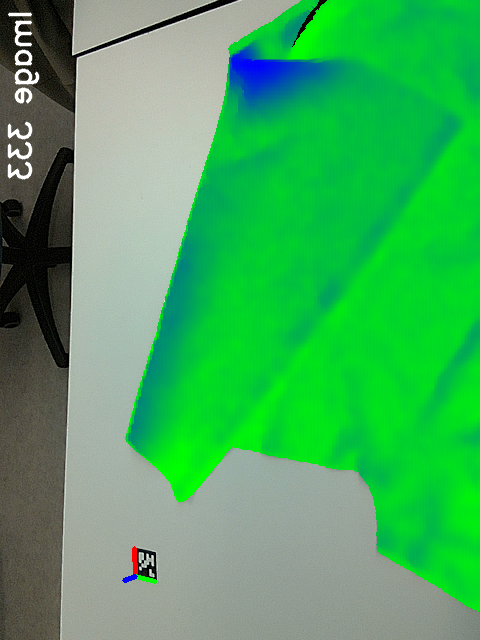V: (416, 81, 476, 146)
